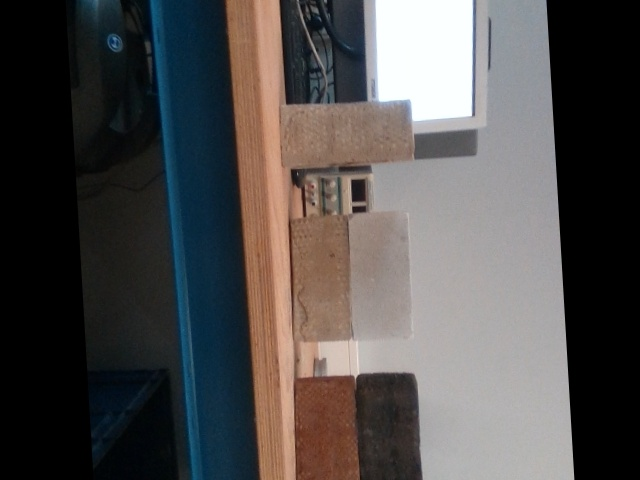brick: (281, 103, 409, 164), (350, 213, 408, 338), (295, 218, 349, 339), (359, 375, 421, 479), (301, 380, 354, 479)
